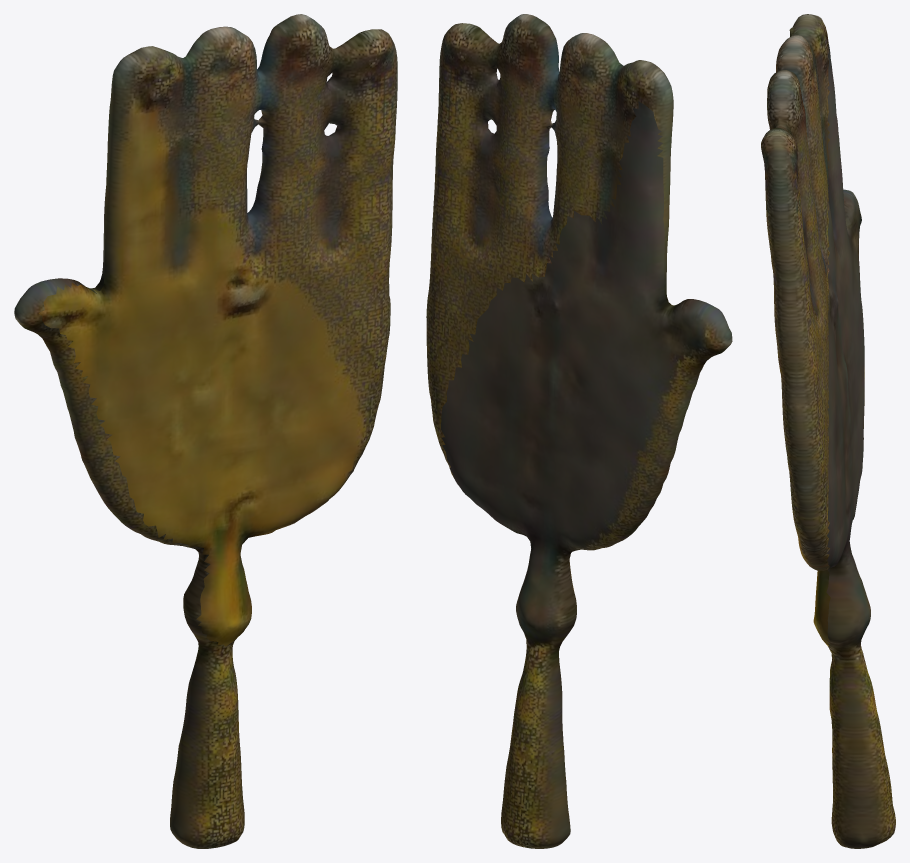
File: kfl-2145.glb
3 renders of one model, left to right at view 1: azimuth 30°, elevation 25°; view 2: azimuth 150°, elevation 25°; view 3: azimuth 270°, elevation 25°, orthographic. The views are drawn at different scales.
Visible parts, largest first — view 1: geometry_0; view 2: geometry_0; view 3: geometry_0.
Boxes of the visible parts, left/top/right/bottom form: geometry_0: left=14, top=14, right=397, bottom=848; geometry_0: left=426, top=14, right=732, bottom=848; geometry_0: left=761, top=14, right=895, bottom=848.
Bounding box in the file's own units: 0.4275 × 0.9928 × 0.1527.
1 material, 1 textured.
